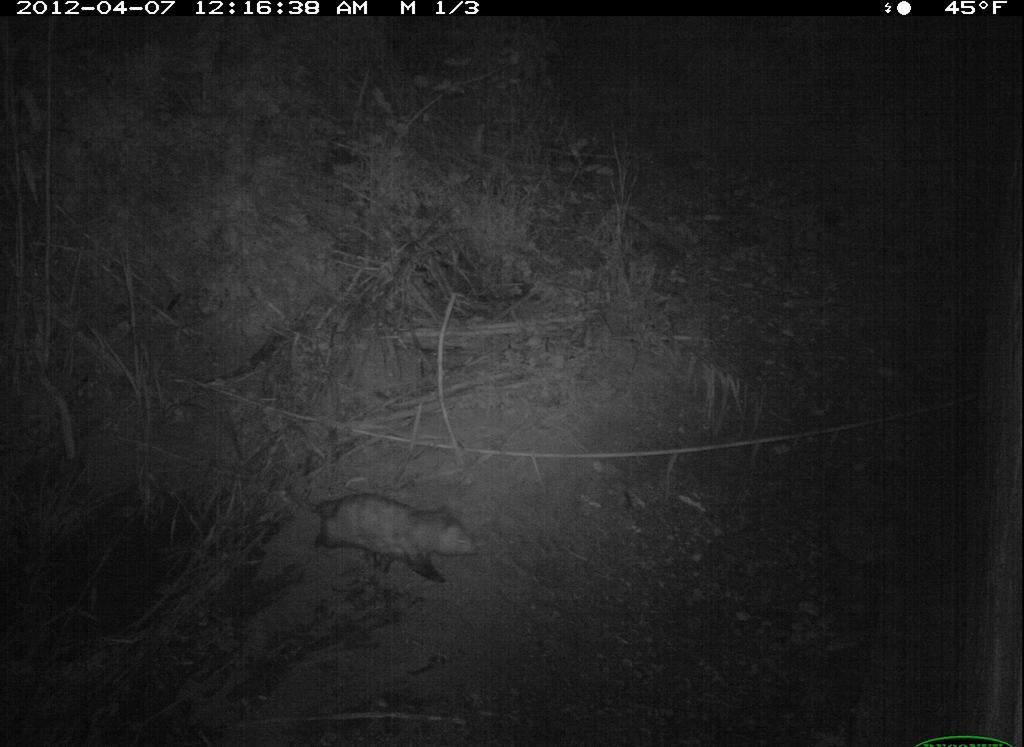opossum: (274, 472, 493, 592)
